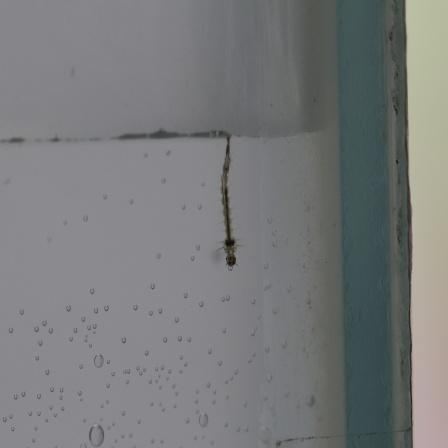Jentik-Nyamuk: (216, 135, 245, 274)
